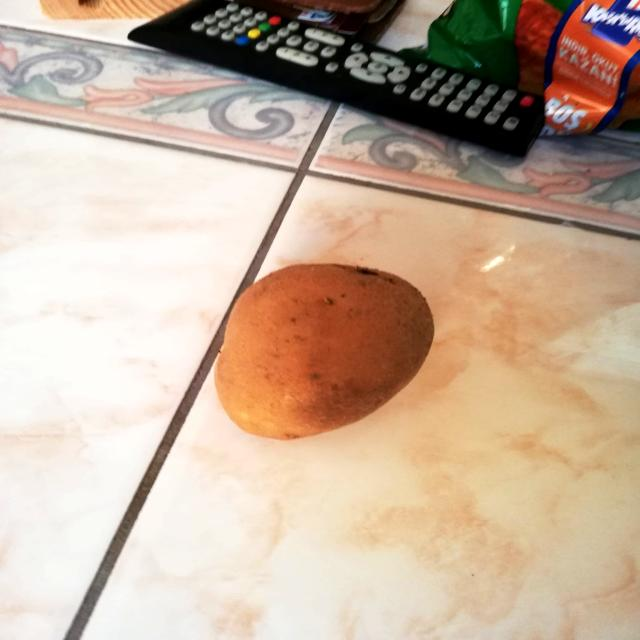potato: (207, 253, 440, 444)
